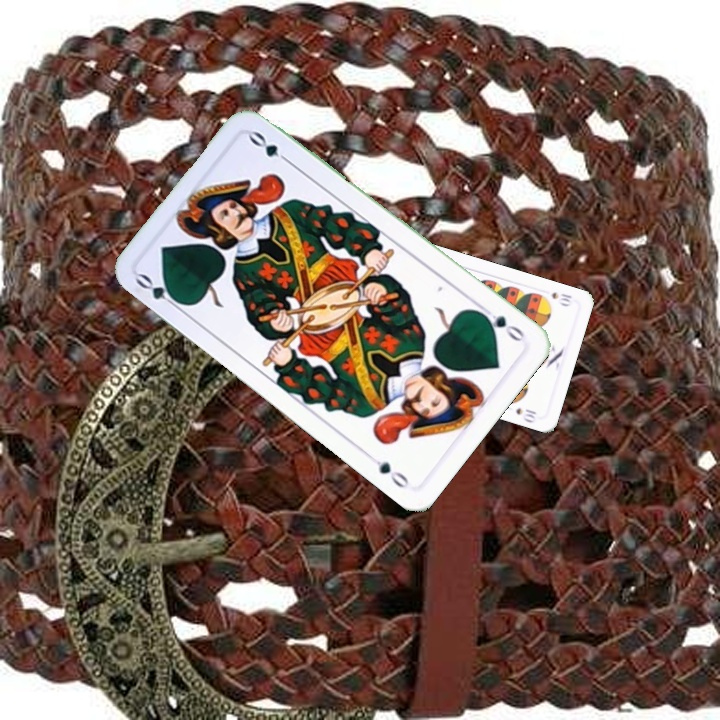GO: (132, 269, 187, 313), (475, 302, 528, 345)
S10: (548, 288, 575, 309)
